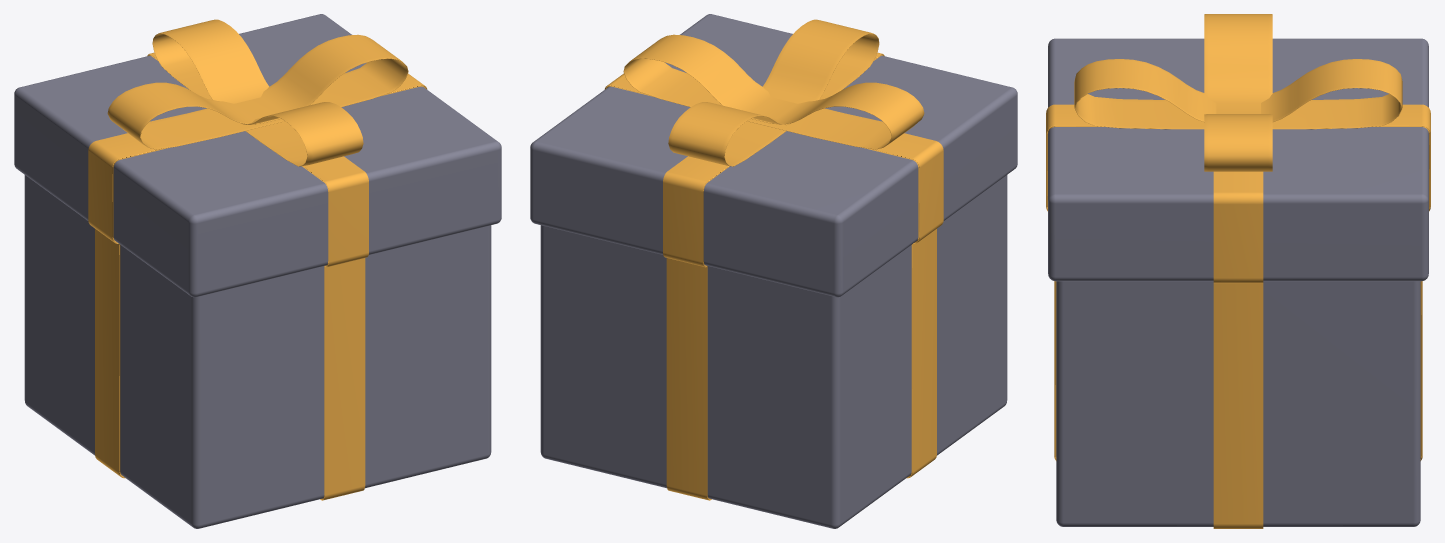
Rendered from BOXsanta03.FBX.
3 views of the same model, side by side, from view 1: azimuth 30°, elevation 25°; view 2: azimuth 150°, elevation 25°; view 3: azimuth 270°, elevation 25° (orthographic). The views are drawn at different scales.
Visible parts, largest first — view 1: ChamferBox02, ChamferBox03; view 2: ChamferBox02, ChamferBox03; view 3: ChamferBox02, ChamferBox03.
Boxes of the visible parts, left/top/right/bottom form: ChamferBox02: left=14, top=14, right=501, bottom=528; ChamferBox03: left=88, top=19, right=427, bottom=500; ChamferBox02: left=530, top=14, right=1017, bottom=528; ChamferBox03: left=604, top=19, right=943, bottom=500; ChamferBox02: left=1048, top=38, right=1428, bottom=526; ChamferBox03: left=1046, top=14, right=1430, bottom=528.
Size of the model in its own units: 4.52 by 4.95 by 4.52.
